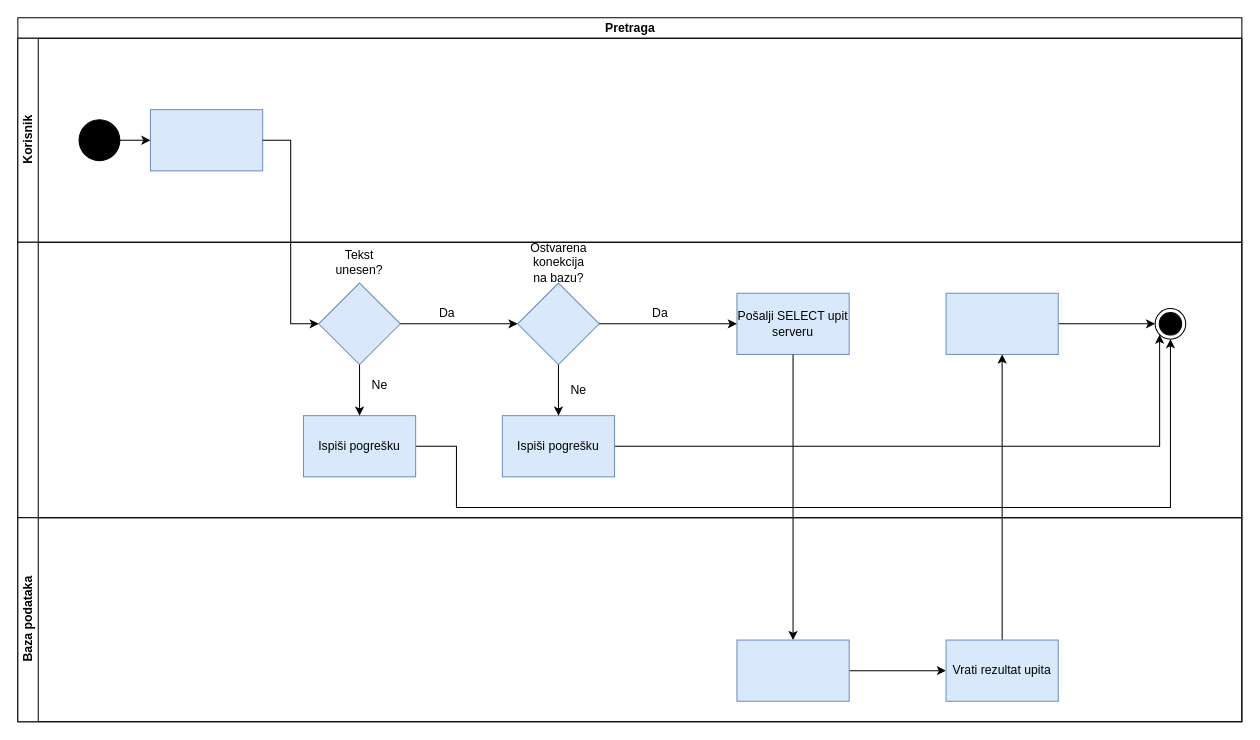
Some shapes in this 1260 by 740 pixel diagram are drawn without their labels. The shapes that lost their labels are listed below. From the top down, each one's box as (x1, y1, x2, y2) in pixels, then its label:
(149, 109, 263, 171): Pritisnut gumb za pretraživanje
(945, 292, 1058, 354): Ispiši rezultat
(17, 241, 1242, 518): Klijentska aplikacija
(736, 639, 849, 701): Obradi upit
